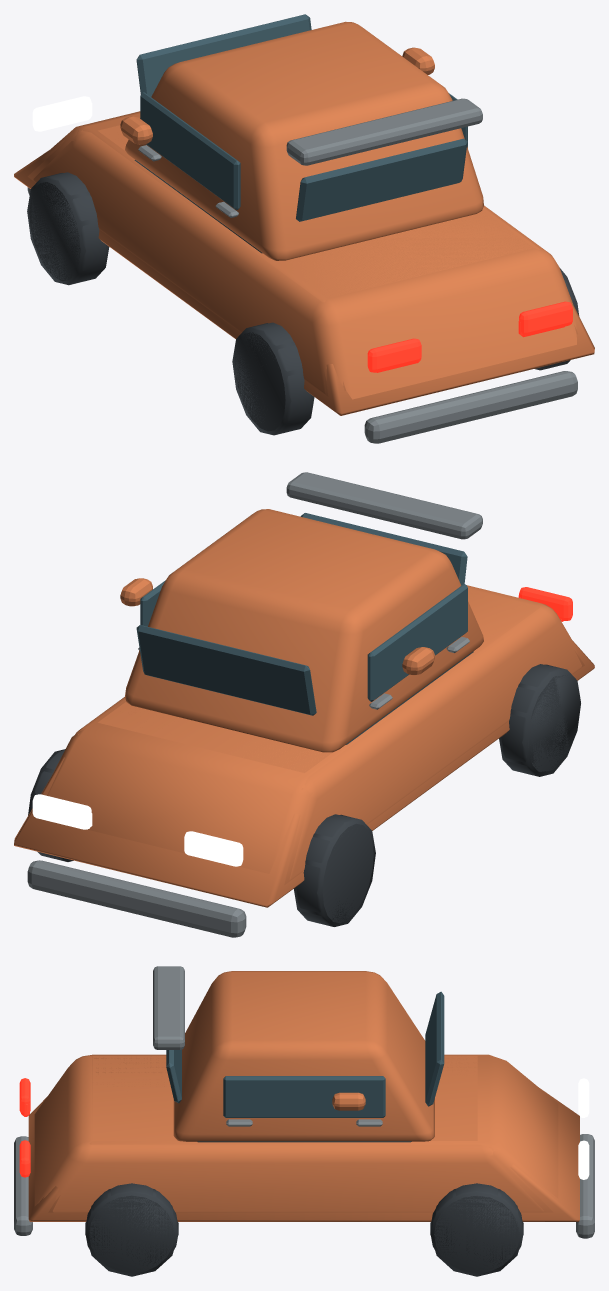
Rendered from city_hatchback.glb.
3 renders of one model, top to bottom at view 1: azimuth 30°, elevation 25°; view 2: azimuth 150°, elevation 25°; view 3: azimuth 270°, elevation 25°, orthographic. The views are drawn at different scales.
Parts seen in each view (by area): view 1: LOD0_city_hatchback_LowerBody, LOD0_city_hatchback_Cabin, LOD1_city_hatchback_Body, LOD0_city_hatchback_RearGlass, LOD2_city_hatchback_Body, LOD0_city_hatchback_RearBumper, LOD0_city_hatchback_Wheel_RL, LOD0_city_hatchback_Wheel_FL, LOD0_city_hatchback_RoofSpoiler, LOD0_city_hatchback_SideGlass_L, LOD1_city_hatchback_Wheel_FL, LOD0_city_hatchback_Windshield (+5 smaller); view 2: LOD0_city_hatchback_Cabin, LOD0_city_hatchback_LowerBody, LOD1_city_hatchback_Body, LOD2_city_hatchback_Body, LOD0_city_hatchback_Windshield, LOD0_city_hatchback_FrontBumper, LOD0_city_hatchback_Wheel_FL, LOD0_city_hatchback_RoofSpoiler, LOD0_city_hatchback_SideGlass_L, LOD0_city_hatchback_Wheel_RL, LOD1_city_hatchback_Wheel_RL, LOD0_city_hatchback_Headlamp_L (+6 smaller); view 3: LOD0_city_hatchback_LowerBody, LOD0_city_hatchback_Cabin, LOD1_city_hatchback_Body, LOD2_city_hatchback_Body, LOD0_city_hatchback_SideGlass_R, LOD0_city_hatchback_Wheel_RR, LOD0_city_hatchback_Wheel_FR, LOD1_city_hatchback_Wheel_RR, LOD1_city_hatchback_Wheel_FR, LOD0_city_hatchback_RoofSpoiler, LOD0_city_hatchback_Windshield, LOD0_city_hatchback_FrontBumper (+7 smaller).
Boxes of the visible parts, x1,y1,x2,y2 form: LOD0_city_hatchback_LowerBody: [33, 125, 576, 399]; LOD0_city_hatchback_Cabin: [125, 21, 483, 260]; LOD1_city_hatchback_Body: [27, 111, 577, 396]; LOD0_city_hatchback_RearGlass: [296, 138, 467, 221]; LOD2_city_hatchback_Body: [14, 130, 594, 415]; LOD0_city_hatchback_RearBumper: [364, 371, 577, 443]; LOD0_city_hatchback_Wheel_RL: [235, 322, 311, 433]; LOD0_city_hatchback_Wheel_FL: [29, 172, 106, 283]; LOD0_city_hatchback_RoofSpoiler: [286, 98, 482, 165]; LOD0_city_hatchback_SideGlass_L: [140, 92, 240, 210]; LOD1_city_hatchback_Wheel_FL: [27, 173, 109, 285]; LOD0_city_hatchback_Windshield: [136, 14, 311, 96]; LOD0_city_hatchback_Cabin: [125, 509, 483, 752]; LOD0_city_hatchback_LowerBody: [75, 585, 581, 880]; LOD1_city_hatchback_Body: [47, 589, 584, 885]; LOD2_city_hatchback_Body: [14, 639, 594, 907]; LOD0_city_hatchback_Windshield: [136, 625, 316, 715]; LOD0_city_hatchback_FrontBumper: [27, 860, 246, 937]; LOD0_city_hatchback_Wheel_FL: [296, 814, 373, 925]; LOD0_city_hatchback_RoofSpoiler: [286, 472, 482, 539]; LOD0_city_hatchback_SideGlass_L: [367, 584, 467, 701]; LOD0_city_hatchback_Wheel_RL: [501, 664, 570, 775]; LOD1_city_hatchback_Wheel_RL: [499, 664, 580, 776]; LOD0_city_hatchback_Headlamp_L: [184, 831, 243, 866]; LOD0_city_hatchback_LowerBody: [34, 1055, 543, 1212]; LOD0_city_hatchback_Cabin: [173, 971, 434, 1141]; LOD1_city_hatchback_Body: [40, 1054, 558, 1212]; LOD2_city_hatchback_Body: [28, 1088, 579, 1221]; LOD0_city_hatchback_SideGlass_R: [223, 1076, 385, 1117]; LOD0_city_hatchback_Wheel_RR: [85, 1183, 178, 1273]; LOD0_city_hatchback_Wheel_FR: [430, 1183, 523, 1273]; LOD1_city_hatchback_Wheel_RR: [85, 1189, 178, 1276]; LOD1_city_hatchback_Wheel_FR: [430, 1189, 523, 1276]; LOD0_city_hatchback_RoofSpoiler: [153, 966, 184, 1049]; LOD0_city_hatchback_Windshield: [425, 991, 444, 1106]; LOD0_city_hatchback_FrontBumper: [576, 1134, 594, 1238].
Size of what is drawn, in the model's own units: 2.01 by 1.63 by 3.99.
